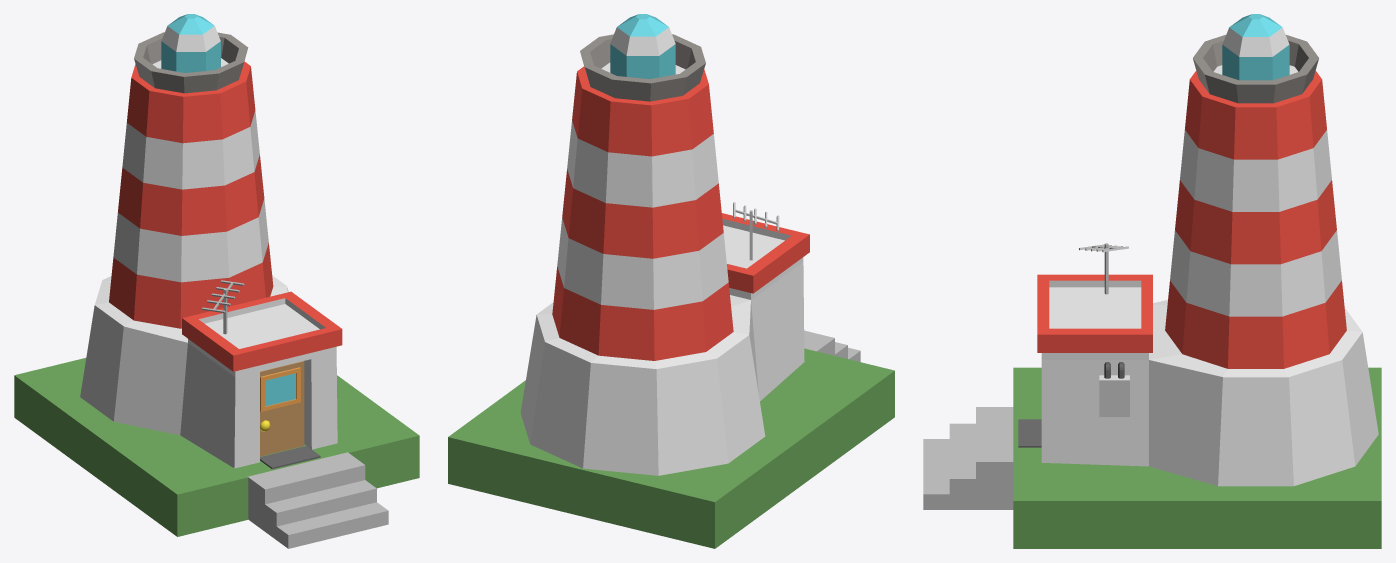
File: Lighthouse.FBX
3 views of the same model, side by side, from view 1: azimuth 30°, elevation 25°; view 2: azimuth 150°, elevation 25°; view 3: azimuth 270°, elevation 25° (orthographic). The views are drawn at different scales.
Parts seen in each view (by area): view 1: Lighthouse; view 2: Lighthouse; view 3: Lighthouse.
Boxes of the visible parts, <box> form: Lighthouse: <box>14,14,419,548</box>; Lighthouse: <box>448,14,894,548</box>; Lighthouse: <box>923,14,1381,548</box>.
Bounding box in the file's own units: 1192 × 1940 × 1731.
